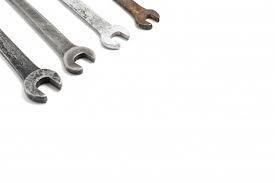wrench: (2, 0, 96, 75), (0, 28, 62, 104), (57, 0, 130, 51), (110, 0, 160, 30)
